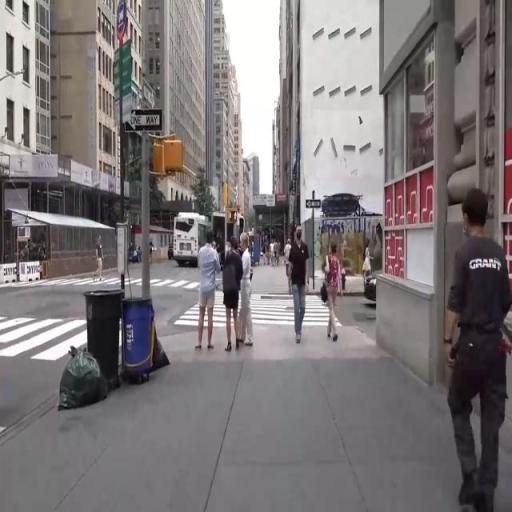person: (450, 168, 512, 512), (197, 230, 221, 367), (239, 224, 259, 355), (222, 233, 244, 347), (324, 235, 343, 347), (291, 228, 308, 352), (95, 234, 108, 287), (362, 245, 371, 281), (286, 235, 293, 276), (268, 235, 276, 266), (279, 237, 283, 264), (275, 240, 278, 260)
